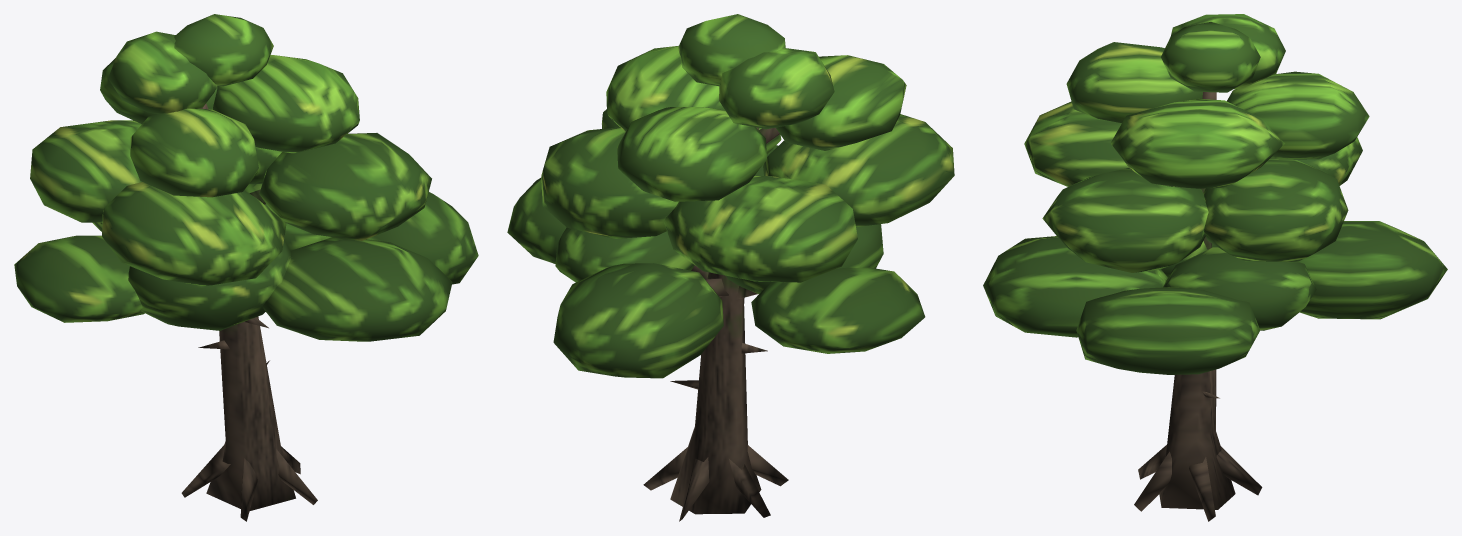
Rendered from Canopy_Tree_A_Far.glb.
3 views of the same model, side by side, from view 1: azimuth 30°, elevation 25°; view 2: azimuth 150°, elevation 25°; view 3: azimuth 270°, elevation 25° (orthographic). The views are drawn at different scales.
Visible parts, largest first — view 1: Canopy_Tree_A_Far__Leaves, Canopy_Tree_A_Far__Bark; view 2: Canopy_Tree_A_Far__Leaves, Canopy_Tree_A_Far__Bark; view 3: Canopy_Tree_A_Far__Leaves, Canopy_Tree_A_Far__Bark.
Boxes of the visible parts, left/top/right/bottom form: Canopy_Tree_A_Far__Leaves: left=14, top=14, right=478, bottom=341; Canopy_Tree_A_Far__Bark: left=181, top=103, right=317, bottom=521; Canopy_Tree_A_Far__Leaves: left=507, top=14, right=954, bottom=378; Canopy_Tree_A_Far__Bark: left=643, top=127, right=788, bottom=521; Canopy_Tree_A_Far__Leaves: left=983, top=14, right=1447, bottom=374; Canopy_Tree_A_Far__Bark: left=1134, top=92, right=1262, bottom=521.
Size of the model in its own units: 39.7 by 44.23 by 41.11.
1 material, 1 textured.
